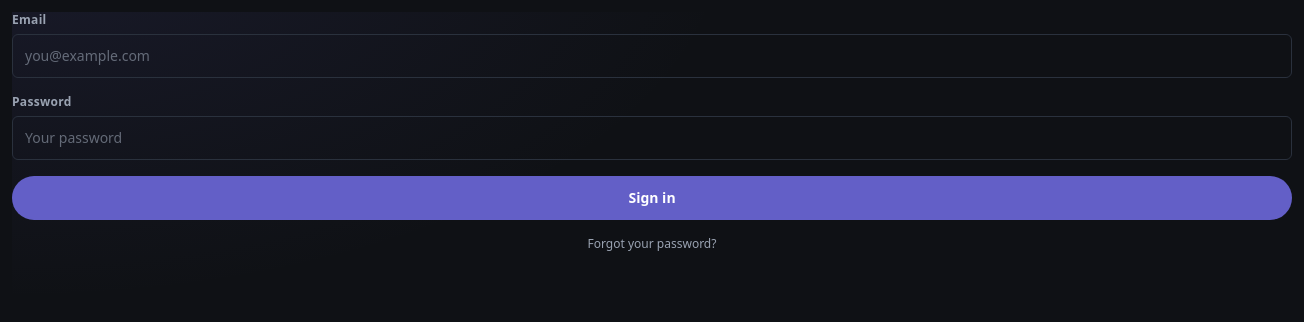
Scenario: LoginForm › recovers from a thrown sign-in without staying stuck
Step 1. Type "user@example.com" into the field labelled "Email" → point(652, 56), box [12,34,1292,78]
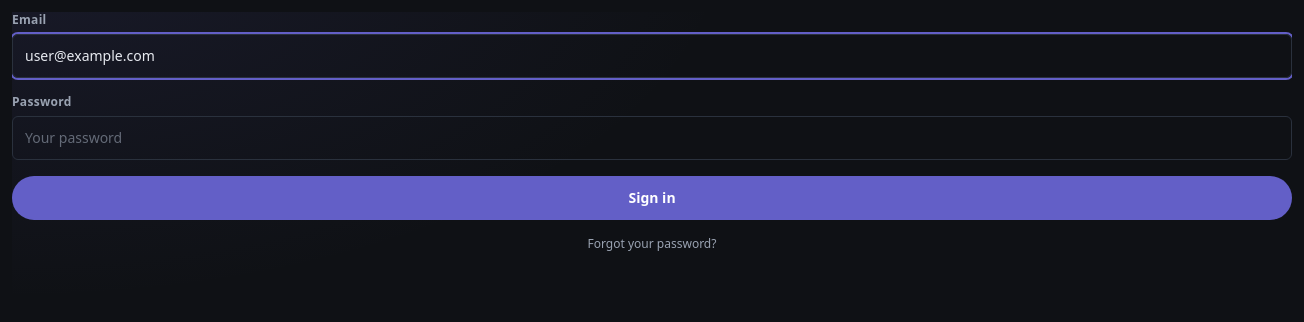
Step 2. Type "supersecret" into the password field labelled "Password" → point(652, 138), box [12,116,1292,160]
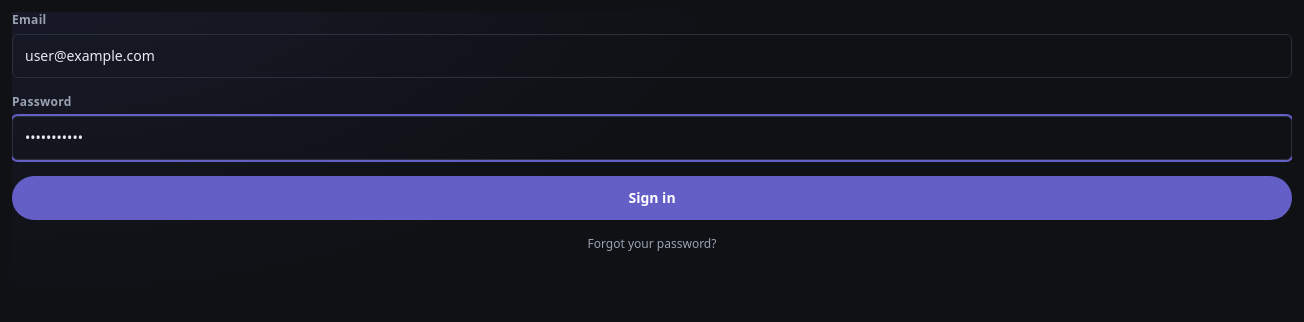
Step 3. Click the button "Sign in" → point(652, 198), box [12,176,1292,220]
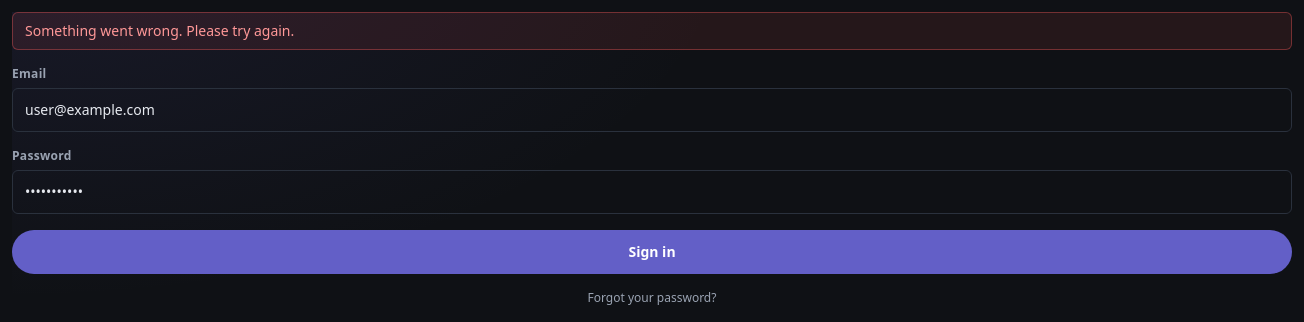
Expected: the button "Sign in" is enabled, [12,230,1292,274]
Result: the message shows "Something went wrong" at [25,21,294,40]
